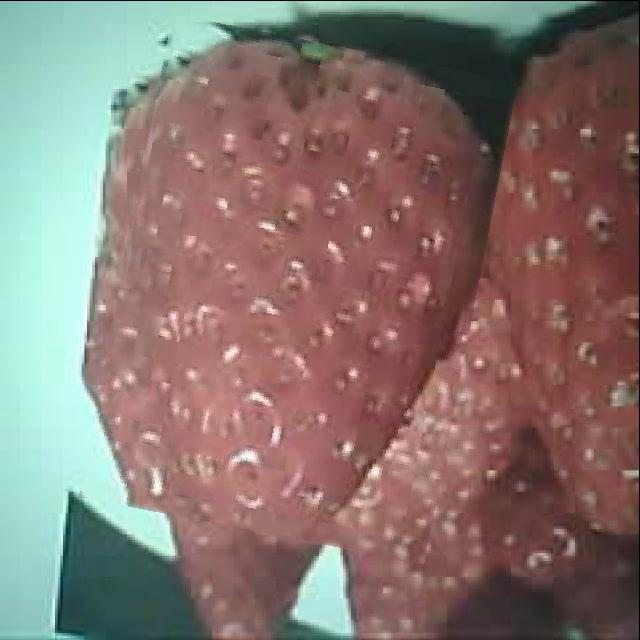strawberry: (100, 28, 496, 548)
